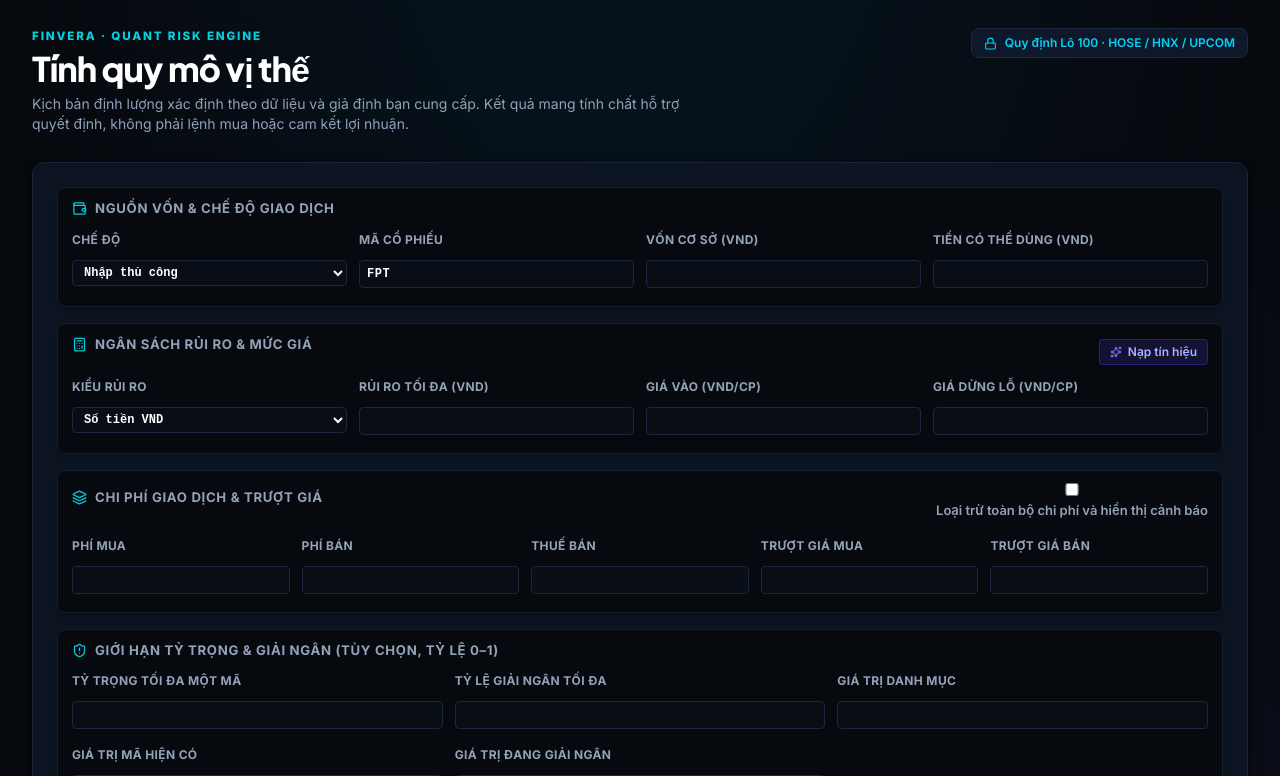
Test: PositionSizingPage › requires explicit complete costs unless exclusion is chosen
This screenshot has width=1280, height=776.
What coordinates should you click on to do the following:
click the checkbox labelled "Loại trừ toàn bộ chi phí và hiển thị cảnh báo"
I would click on:
 (1072, 490)
Its box is x1=936 y1=483 x2=1208 y2=496.
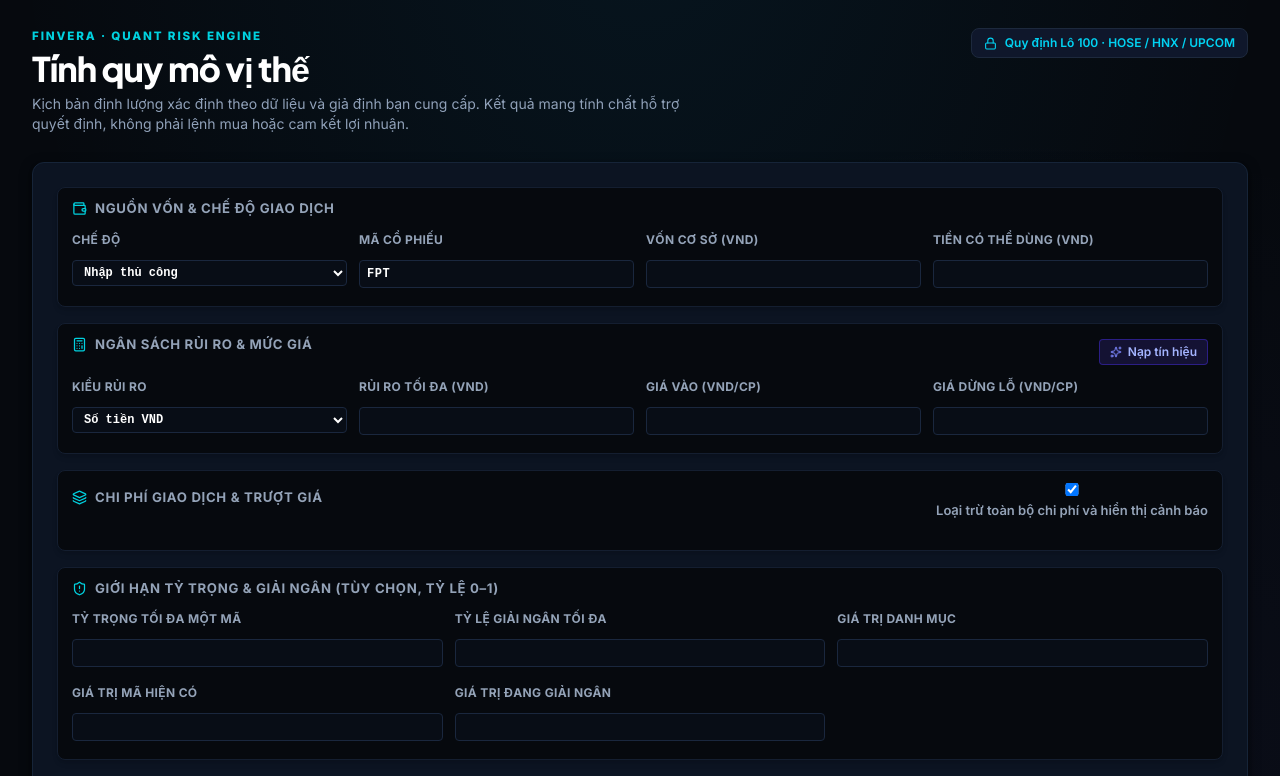
Result: the text labelled "Phí mua" is gone
